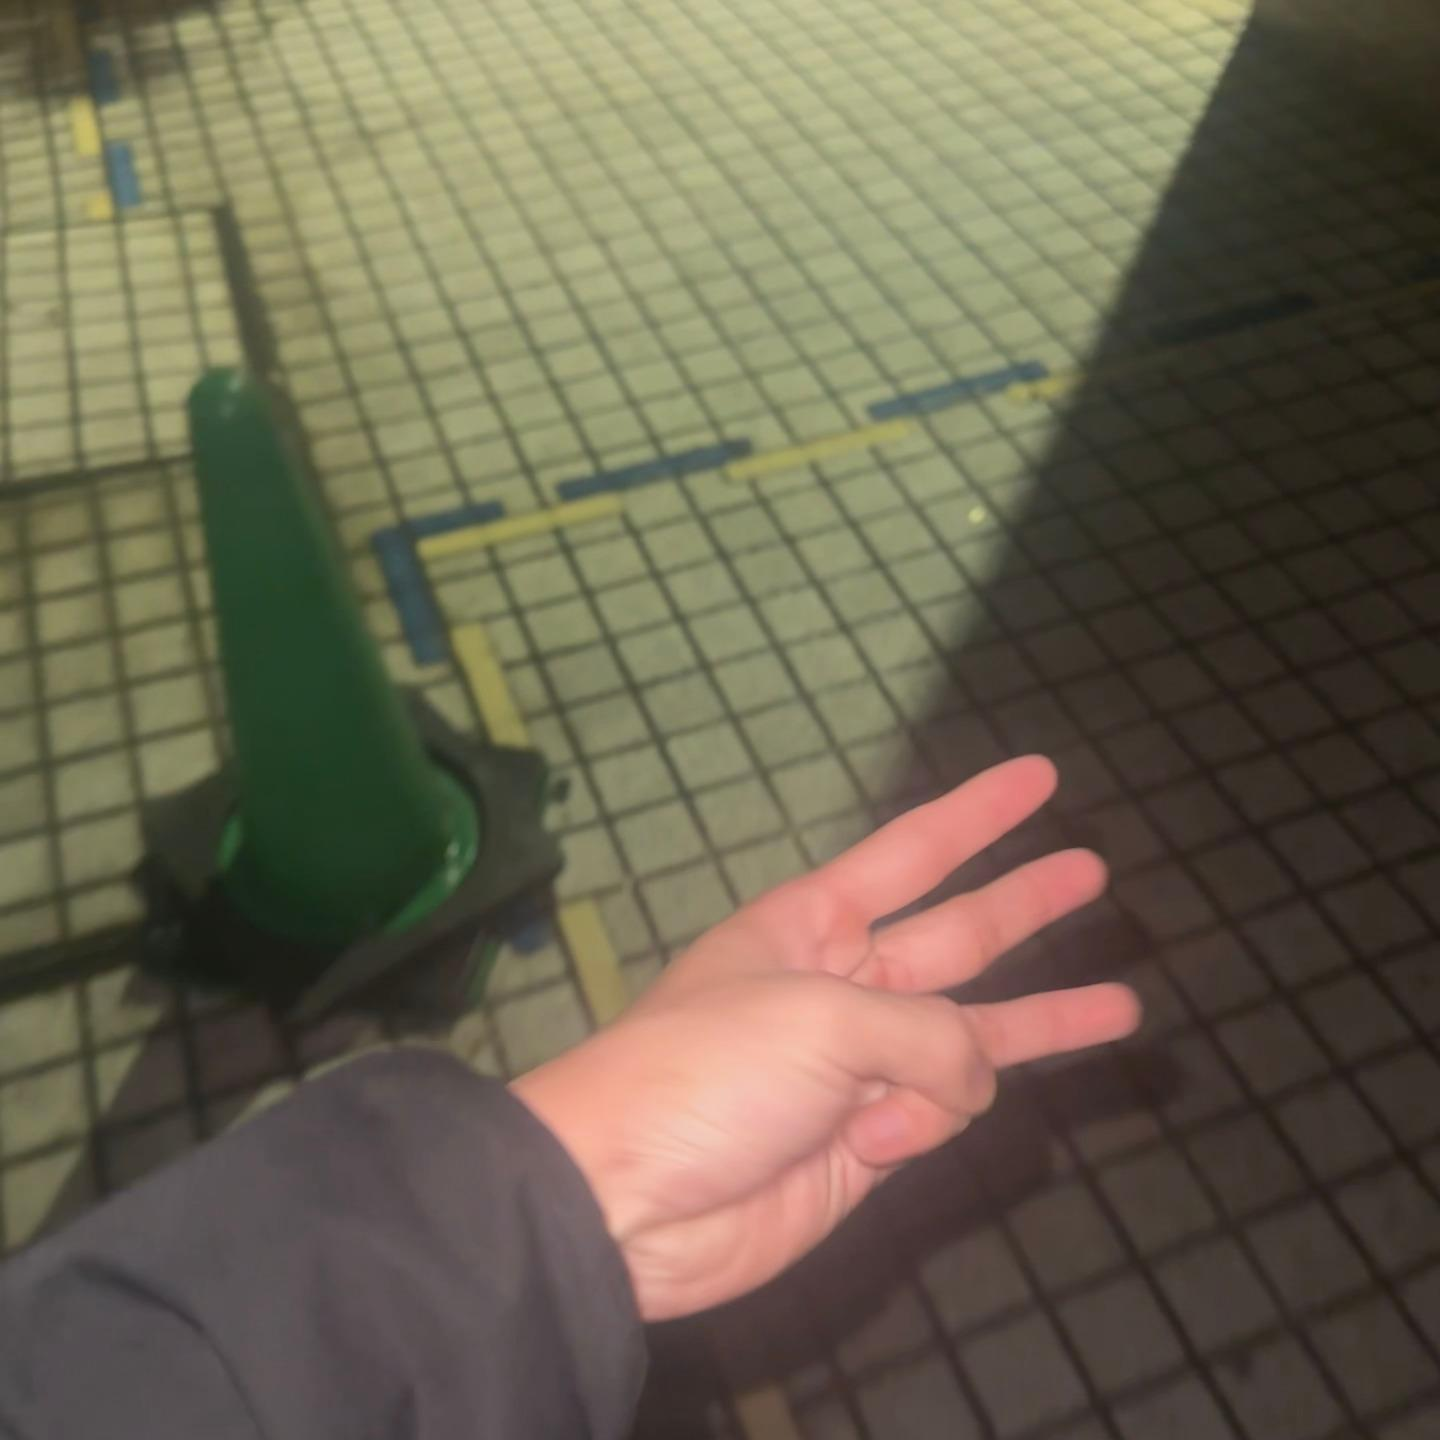without_gloves: (431, 696, 1180, 1357)
